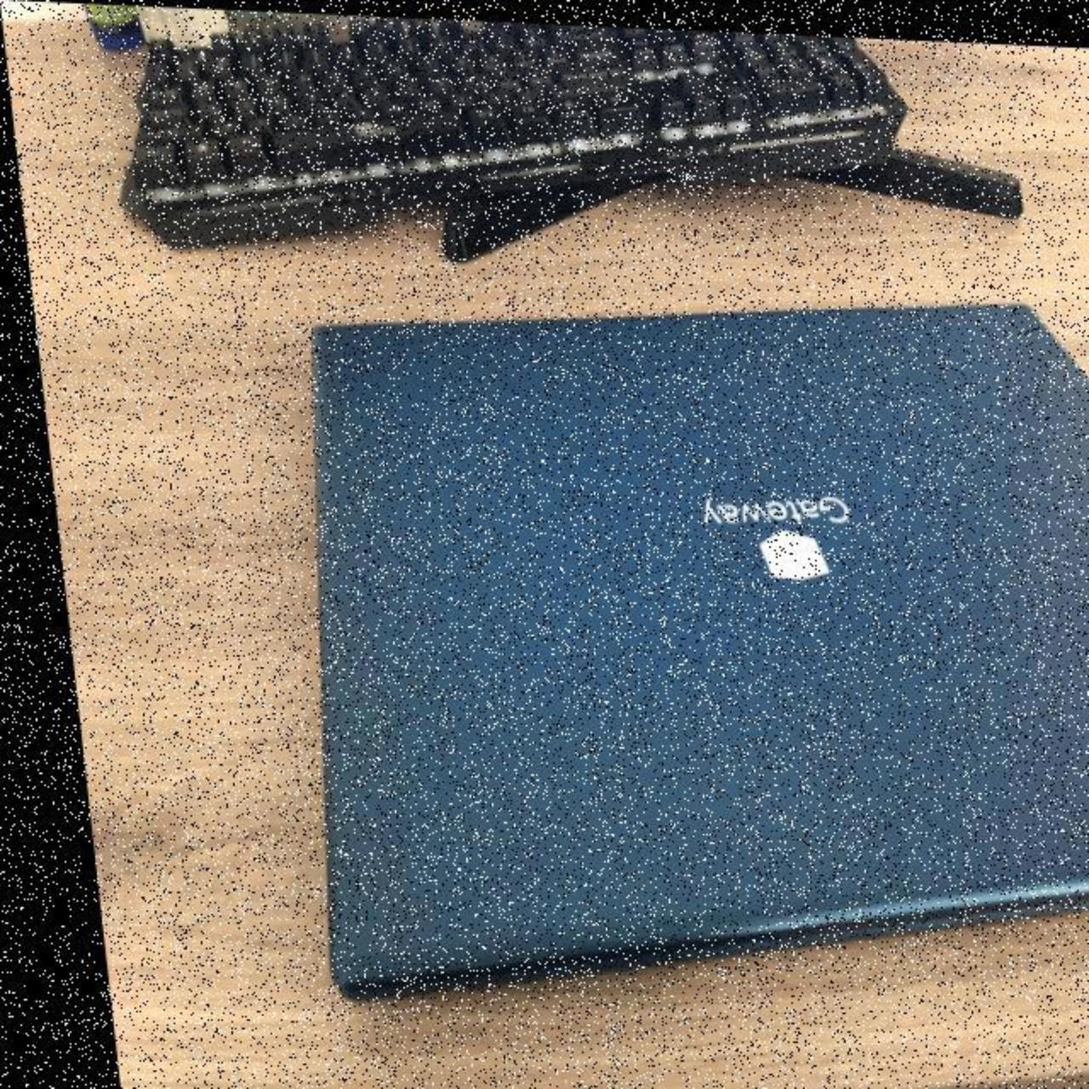laptop: (239, 260, 1088, 1033)
